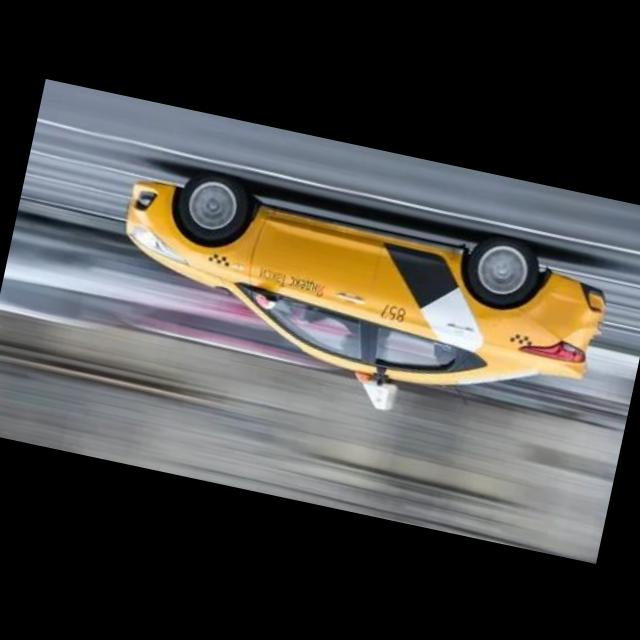taxi: (97, 155, 619, 453)
